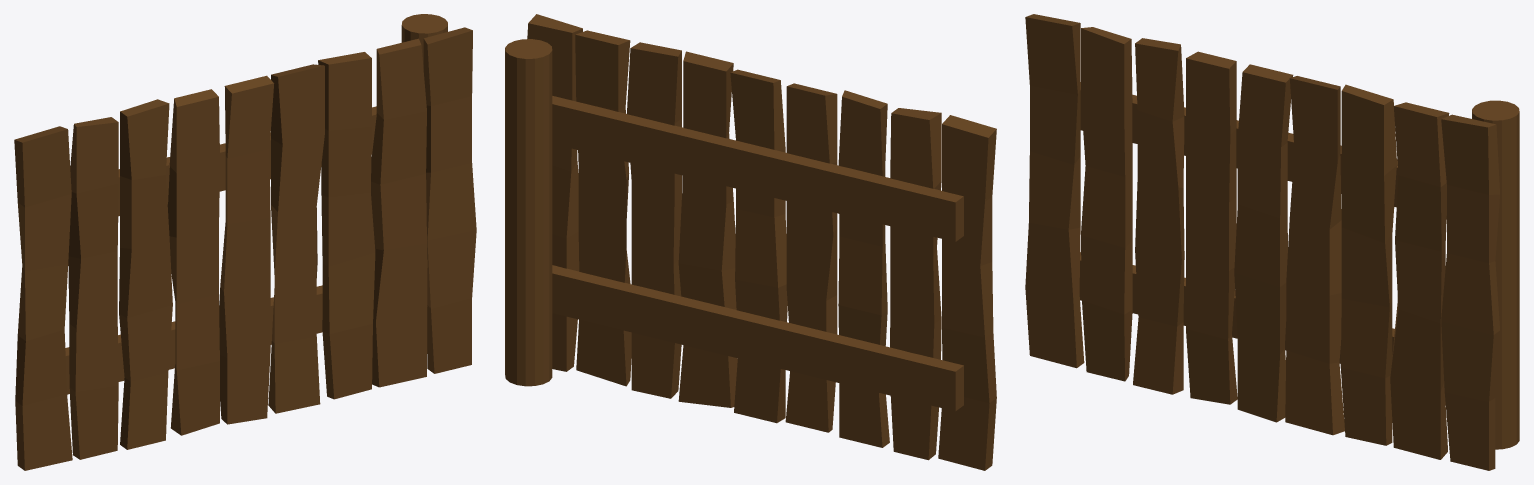
The model's file is угол.fbx.
The picture shows the model from 3 angles, left to right: view 1: azimuth 30°, elevation 25°; view 2: azimuth 150°, elevation 25°; view 3: azimuth 330°, elevation 25°; orthographic projection. The views are drawn at different scales.
Visible parts, largest first — view 1: Cylinder.001; view 2: Cylinder.001; view 3: Cylinder.001.
Boxes of the visible parts, box(x1,y1,x2,y2) form: Cylinder.001: box(14, 14, 476, 470); Cylinder.001: box(505, 14, 996, 470); Cylinder.001: box(1025, 14, 1519, 470).
Size of the model in its own units: 123 by 87.37 by 18.57.
